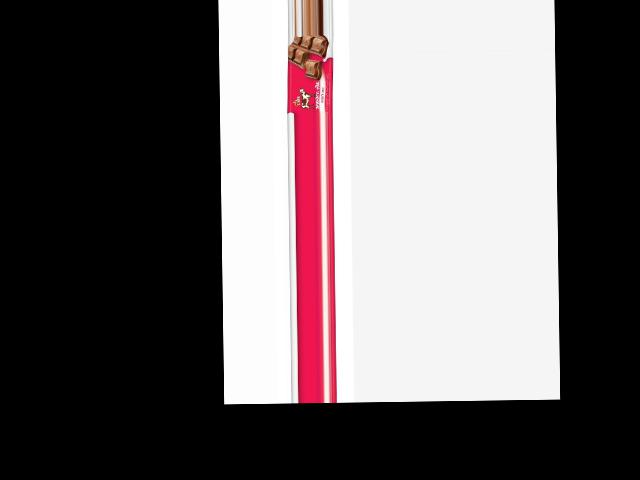chocolate: (286, 36, 333, 114)
